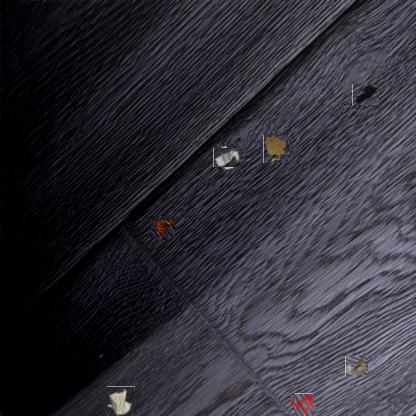dirty: (106, 386, 136, 416), (352, 83, 379, 105), (215, 146, 239, 169), (152, 217, 174, 239), (345, 356, 368, 376)
liquid: (262, 136, 289, 163), (292, 394, 314, 416)
